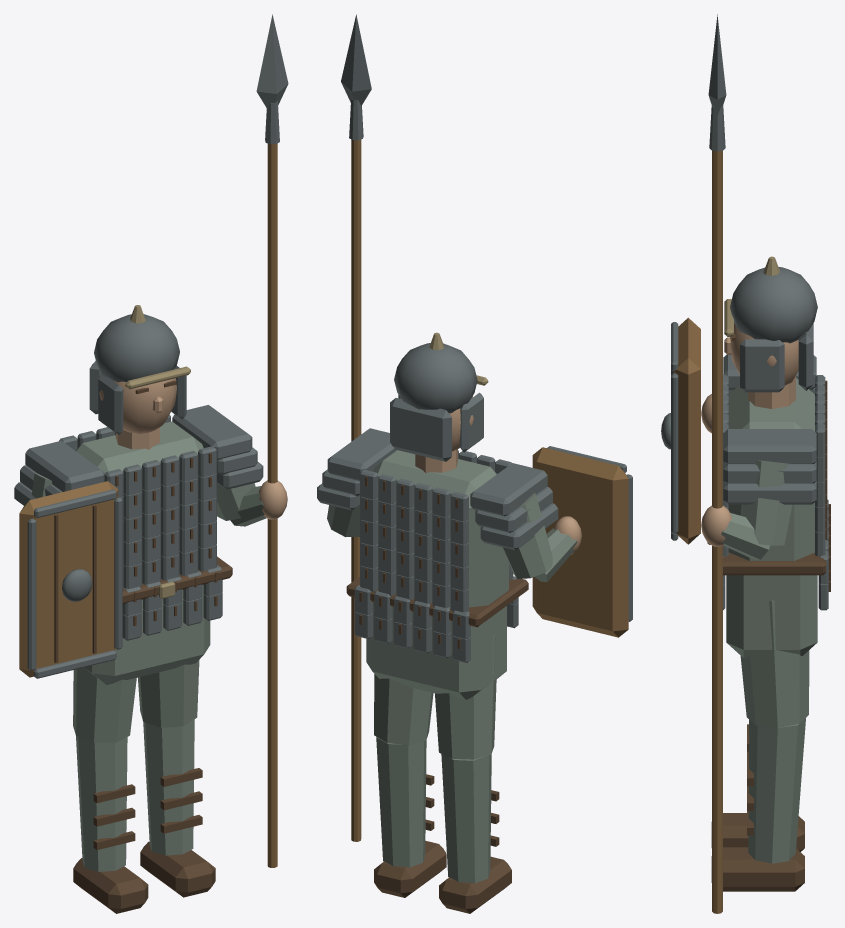
The model's file is han-infantry.glb.
The picture shows the model from 3 angles, left to right: view 1: azimuth 30°, elevation 25°; view 2: azimuth 150°, elevation 25°; view 3: azimuth 270°, elevation 25°; orthographic projection. The views are drawn at different scales.
Parts seen in each view (by area): view 1: iron-lamellar, linen-tunic, spear-wood, leather, skin, worn-bronze; view 2: iron-lamellar, linen-tunic, spear-wood, leather, skin; view 3: linen-tunic, iron-lamellar, spear-wood, leather, skin, worn-bronze.
Part boxes in pixels (left/top/right/bottom): iron-lamellar: left=14, top=14, right=288, bottom=678; linen-tunic: left=32, top=421, right=266, bottom=871; spear-wood: left=19, top=143, right=277, bottom=867; leather: left=54, top=380, right=232, bottom=913; skin: left=99, top=369, right=287, bottom=519; worn-bronze: left=125, top=305, right=190, bottom=598; iron-lamellar: left=317, top=14, right=632, bottom=662; linen-tunic: left=327, top=450, right=577, bottom=883; spear-wood: left=351, top=139, right=628, bottom=841; leather: left=346, top=476, right=528, bottom=913; skin: left=415, top=396, right=581, bottom=554; linen-tunic: left=711, top=378, right=817, bottom=863; iron-lamellar: left=661, top=14, right=828, bottom=610; spear-wood: left=675, top=150, right=722, bottom=913; leather: left=673, top=332, right=830, bottom=891; skin: left=701, top=323, right=798, bottom=546; worn-bronze: left=707, top=256, right=780, bottom=544.
Bounding box in the file's own units: 0.885 × 2.58 × 0.4365.
